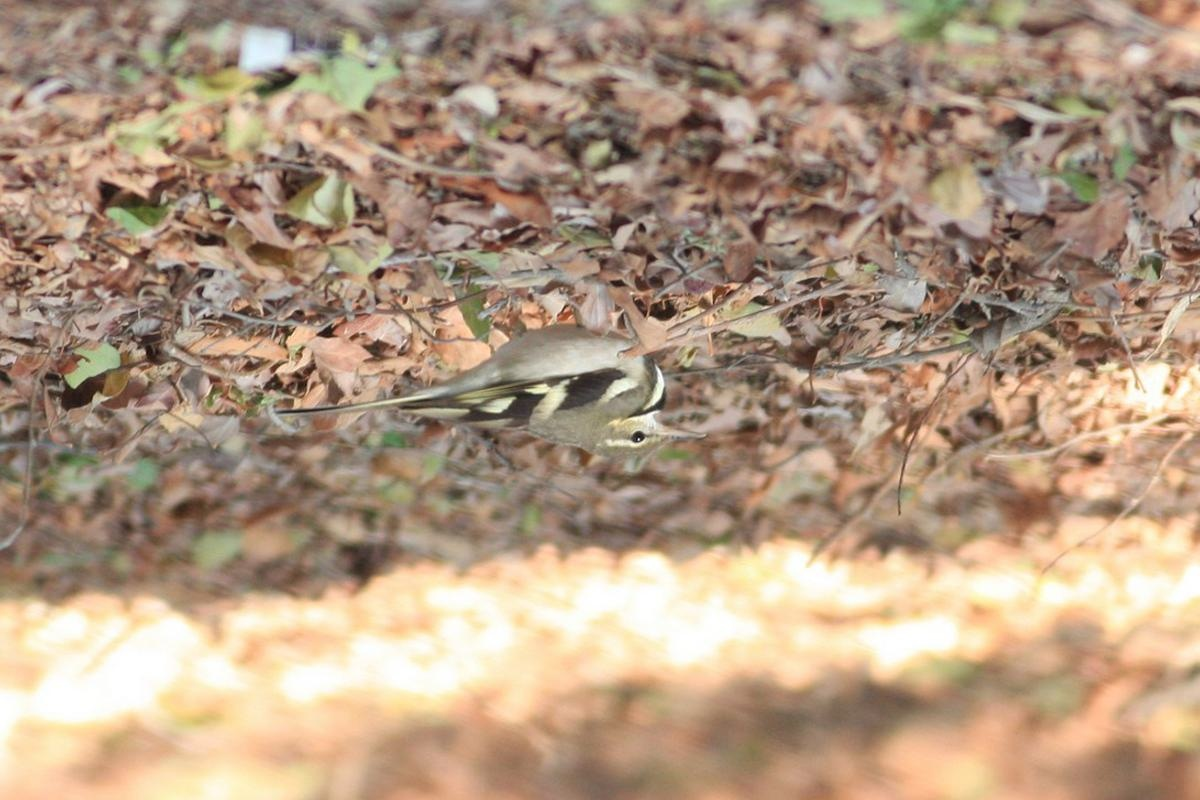wagtail: (334, 335, 717, 471)
